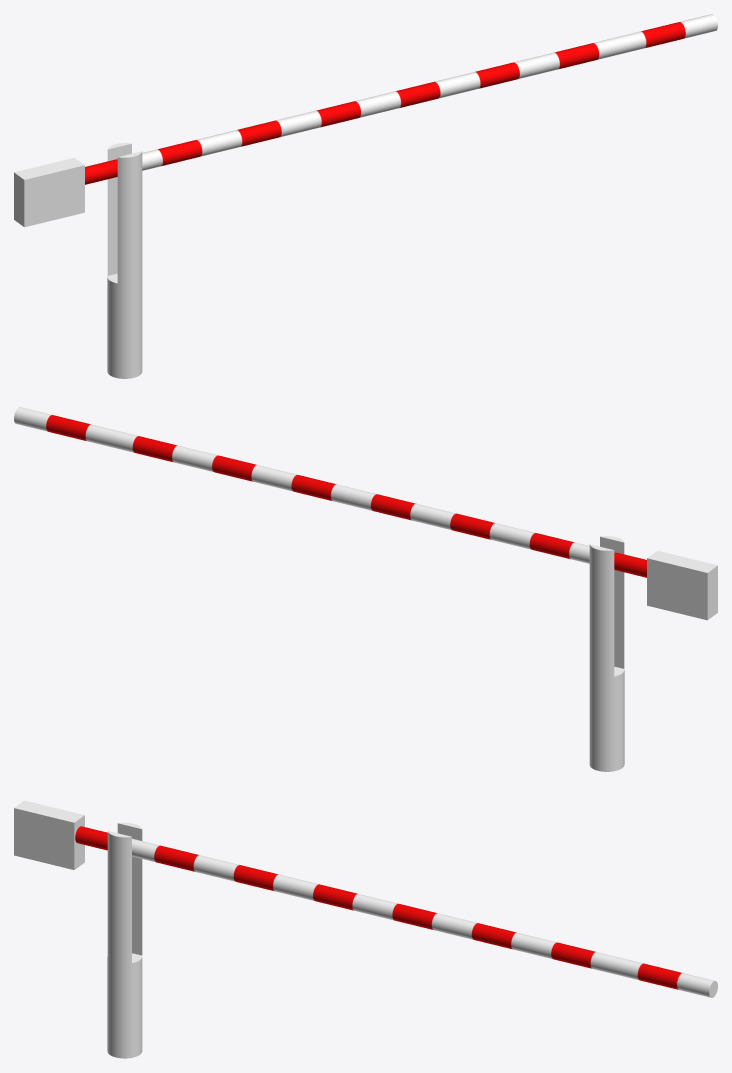
Rendered from barriere_train_gauche.fbx.
3 views of the same model, one above another, from view 1: azimuth 30°, elevation 25°; view 2: azimuth 150°, elevation 25°; view 3: azimuth 330°, elevation 25° (orthographic).
Visible parts, largest first — view 1: Barriere_train_gauche_barre, Berriere_train_gauche_pillier; view 2: Barriere_train_gauche_barre, Berriere_train_gauche_pillier; view 3: Barriere_train_gauche_barre, Berriere_train_gauche_pillier.
Part boxes in pixels (box(x1,y1,x2,y2)): Barriere_train_gauche_barre: box(14, 14, 717, 227); Berriere_train_gauche_pillier: box(107, 143, 142, 378); Barriere_train_gauche_barre: box(14, 407, 717, 620); Berriere_train_gauche_pillier: box(589, 536, 624, 771); Barriere_train_gauche_barre: box(14, 800, 717, 997); Berriere_train_gauche_pillier: box(107, 822, 142, 1058).
Size of the model in its own units: 23 by 7 by 1.
2 materials, 2 textured.
